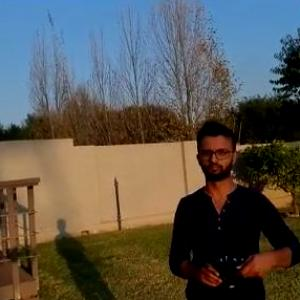follow: (163, 113, 300, 299)
